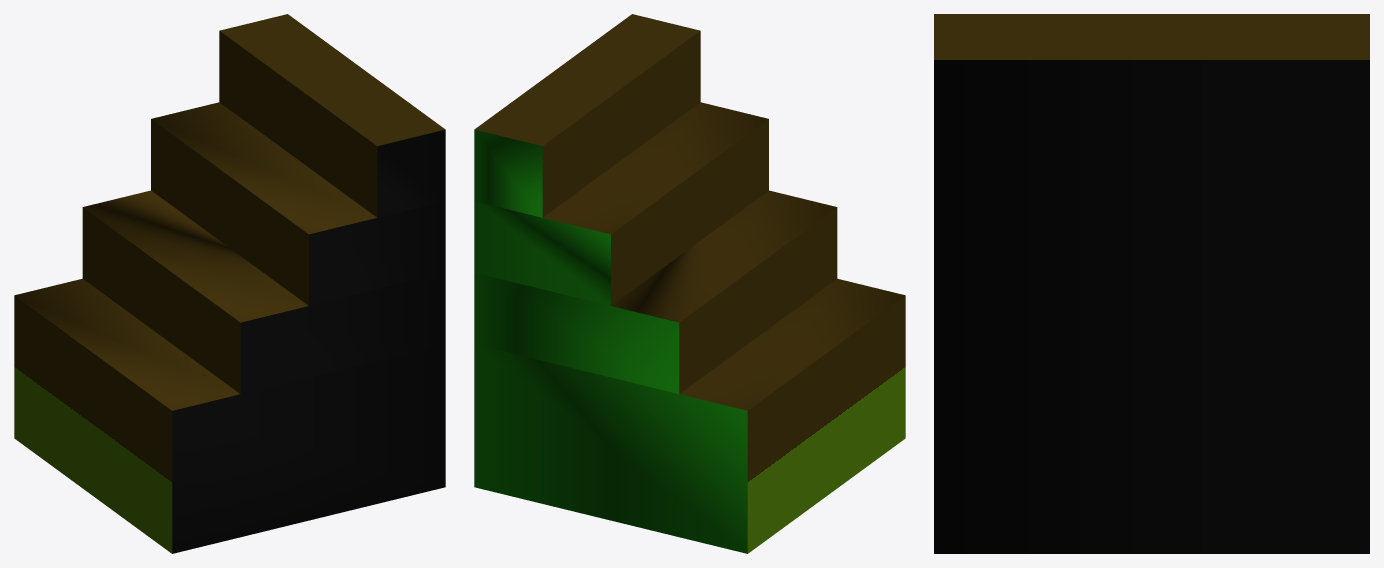
File: block_4.fbx
The picture shows the model from 3 angles, left to right: view 1: azimuth 30°, elevation 25°; view 2: azimuth 150°, elevation 25°; view 3: azimuth 270°, elevation 25°; orthographic projection. The views are drawn at different scales.
Visible parts, largest first — view 1: Box; view 2: Box; view 3: Box.
Boxes of the visible parts, x1=… form: Box: x1=14, y1=14, x2=445, y2=553; Box: x1=474, y1=14, x2=905, y2=553; Box: x1=934, y1=14, x2=1369, y2=553.
Bounding box in the file's own units: 4 × 4 × 5.
1 material, 1 textured.
